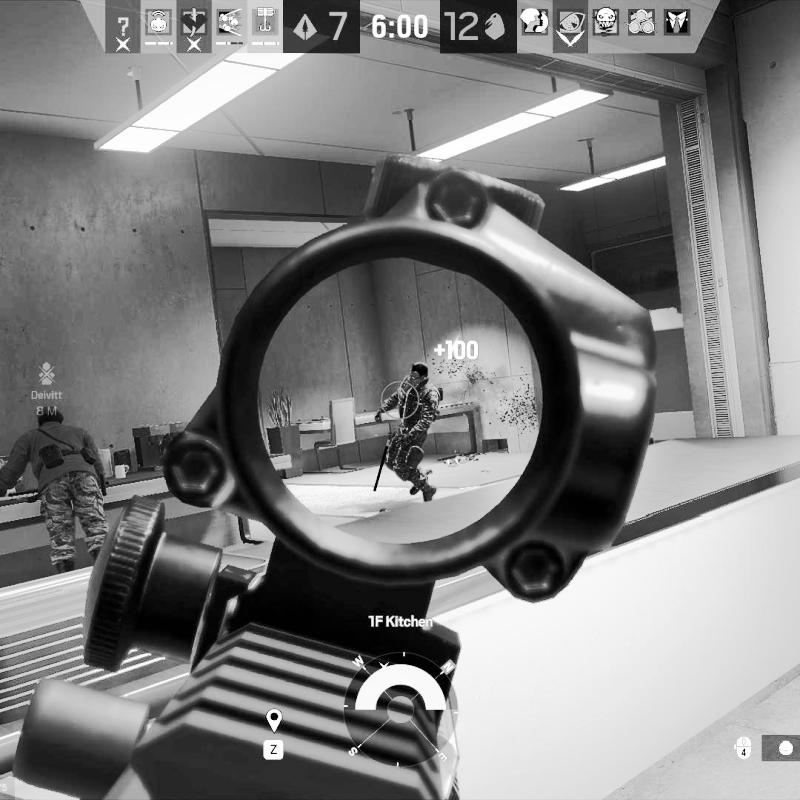Character: (0, 403, 111, 575), (373, 361, 446, 503)
Head: (408, 362, 430, 386)
